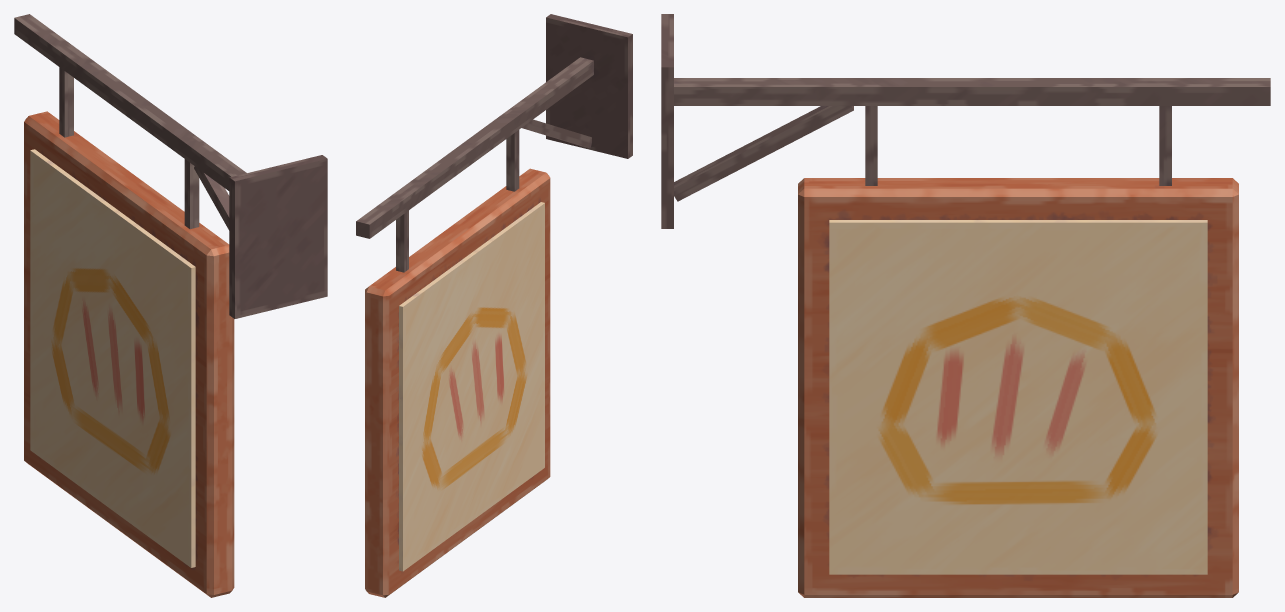
Rendered from sign_bread_body.fbx.
3 renders of one model, left to right at view 1: azimuth 30°, elevation 25°; view 2: azimuth 150°, elevation 25°; view 3: azimuth 270°, elevation 25°, orthographic. The views are drawn at different scales.
Parts seen in each view (by area): view 1: sign_bread_body; view 2: sign_bread_body; view 3: sign_bread_body.
Boxes of the visible parts, x1,y1,x2,y2 form: sign_bread_body: [14, 14, 327, 597]; sign_bread_body: [356, 14, 632, 597]; sign_bread_body: [661, 14, 1270, 597].
Bounding box in the file's own units: 0.6 × 2.9 × 2.9.
